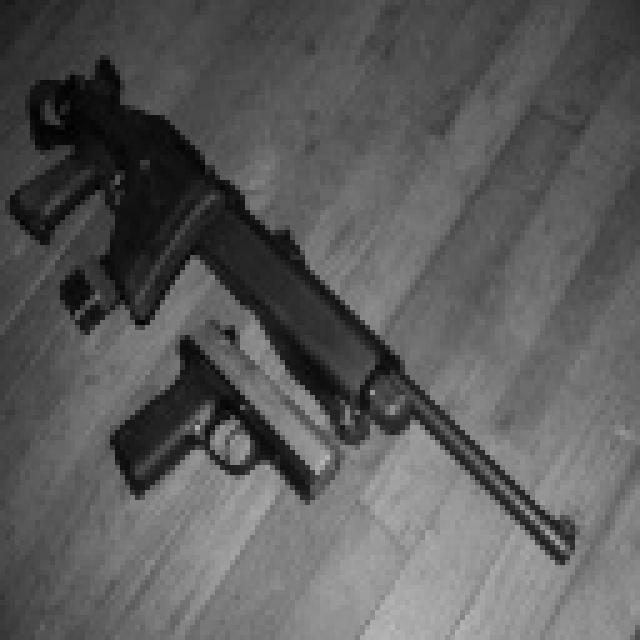Rifle: (0, 0, 640, 640), (82, 313, 360, 552)
